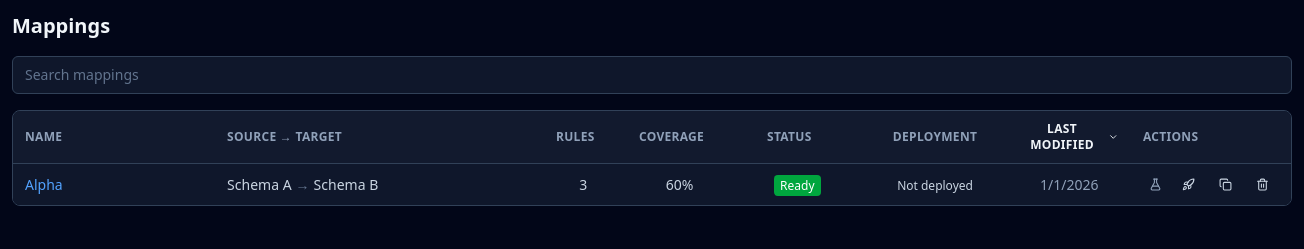
MappingListSection › shows empty-search-result state when no mapping matches query
Type "zzz-no-match" into the search field with test id "mappings-search-input".
click(652, 75); type("zzz-no-match")  # box [12,56,1292,94]
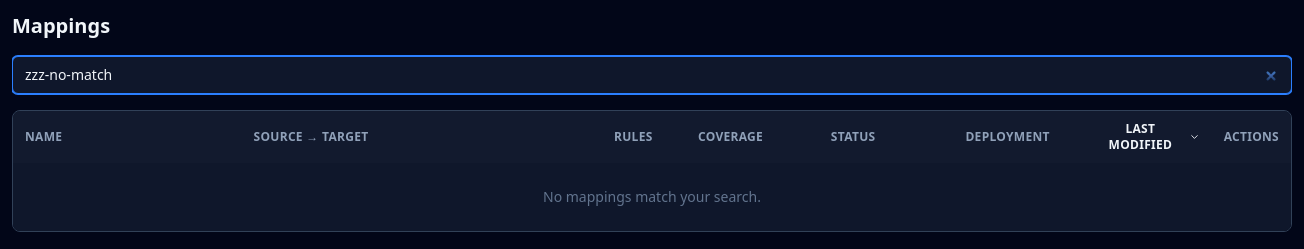
Check: the cell with test id "mappings-no-search-results" is shown, box [13,163,1291,231]
